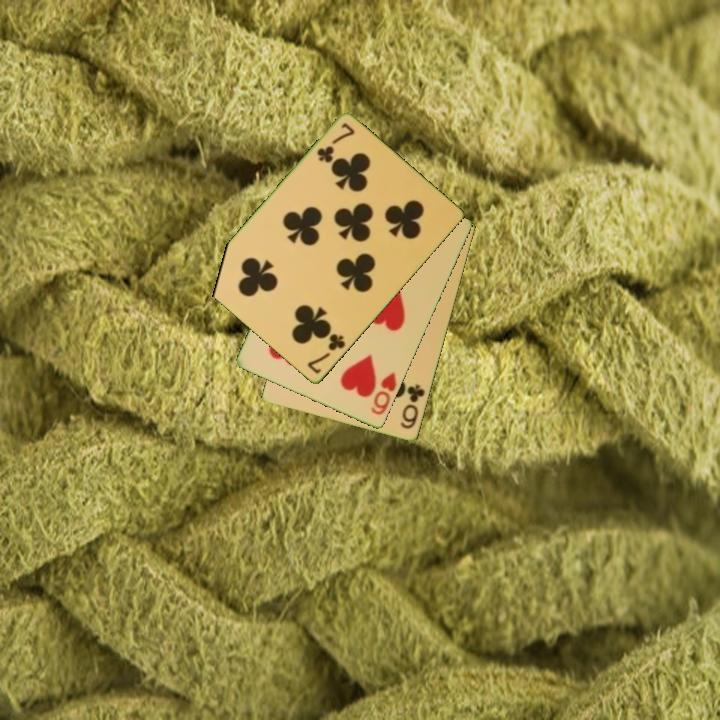6c: (397, 381, 428, 432)
6h: (367, 369, 400, 418)
7c: (313, 120, 358, 166), (304, 330, 348, 377)
